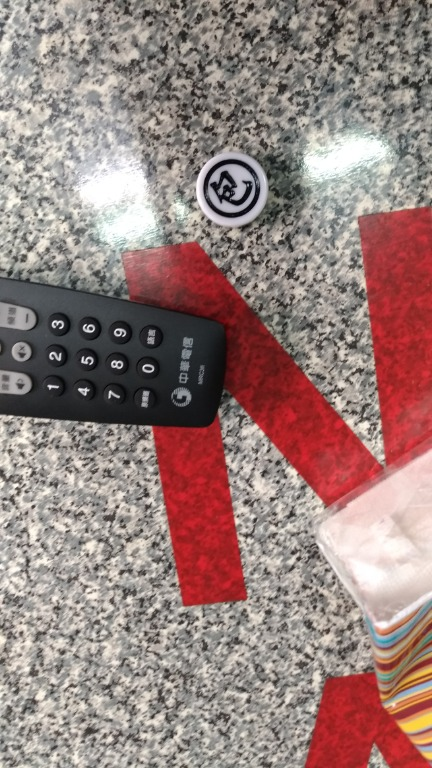b-cannon: (187, 134, 287, 240)
